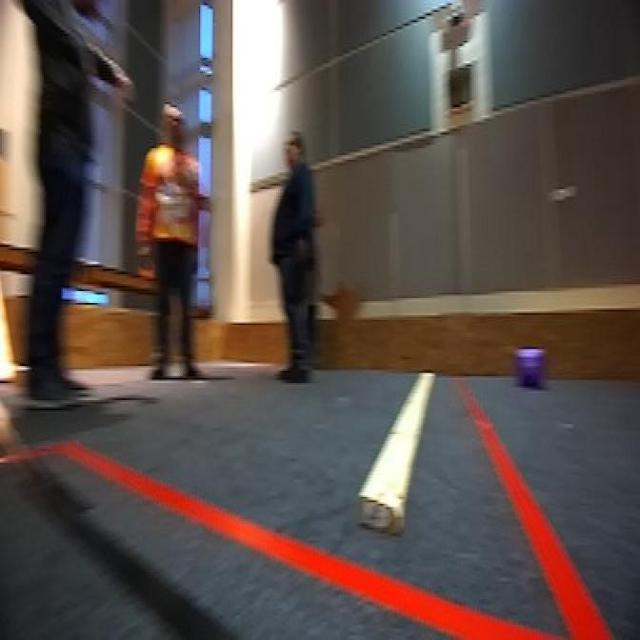frc_cube: (516, 346, 544, 384)
